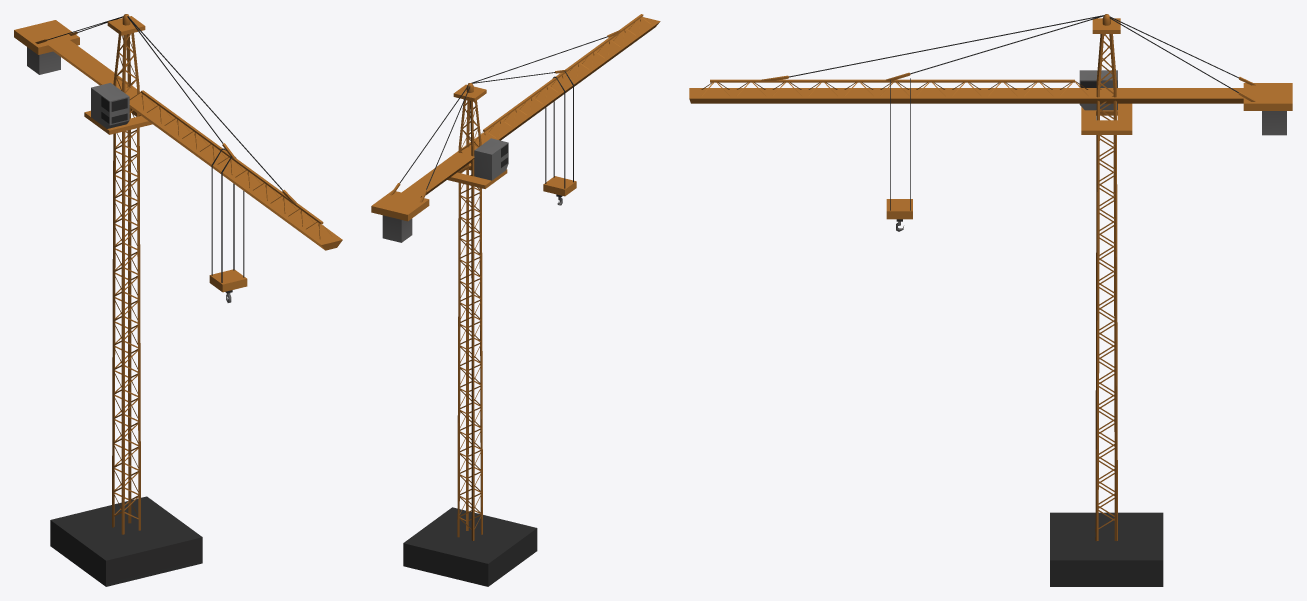
File: buildings-industrial-towercrane_v1.glb
The picture shows the model from 3 angles, left to right: view 1: azimuth 30°, elevation 25°; view 2: azimuth 150°, elevation 25°; view 3: azimuth 270°, elevation 25°; orthographic projection. The views are drawn at different scales.
Parts seen in each view (by area): view 1: TowerCrane_base, TowerCrane_DblSided; view 2: TowerCrane_base, TowerCrane_DblSided; view 3: TowerCrane_base, TowerCrane_DblSided.
Part boxes in pixels (bbox=[...]): TowerCrane_base: bbox=[14, 14, 342, 586]; TowerCrane_DblSided: bbox=[114, 33, 331, 519]; TowerCrane_base: bbox=[371, 14, 660, 586]; TowerCrane_DblSided: bbox=[459, 17, 650, 529]; TowerCrane_base: bbox=[689, 14, 1292, 586]; TowerCrane_DblSided: bbox=[701, 34, 1114, 528].
Size of the model in its own units: 11.55 by 61.72 by 61.57.
